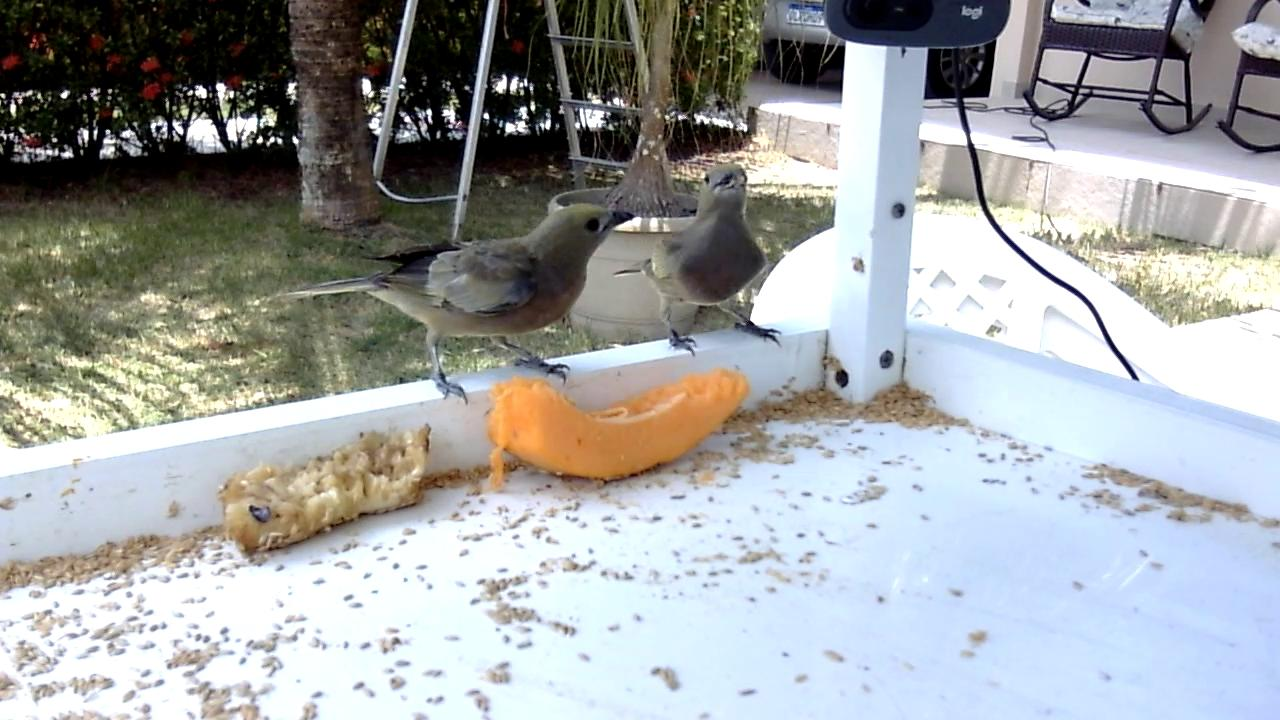sanhaco_do_coqueiro: (283, 204, 639, 408), (611, 161, 786, 360)
